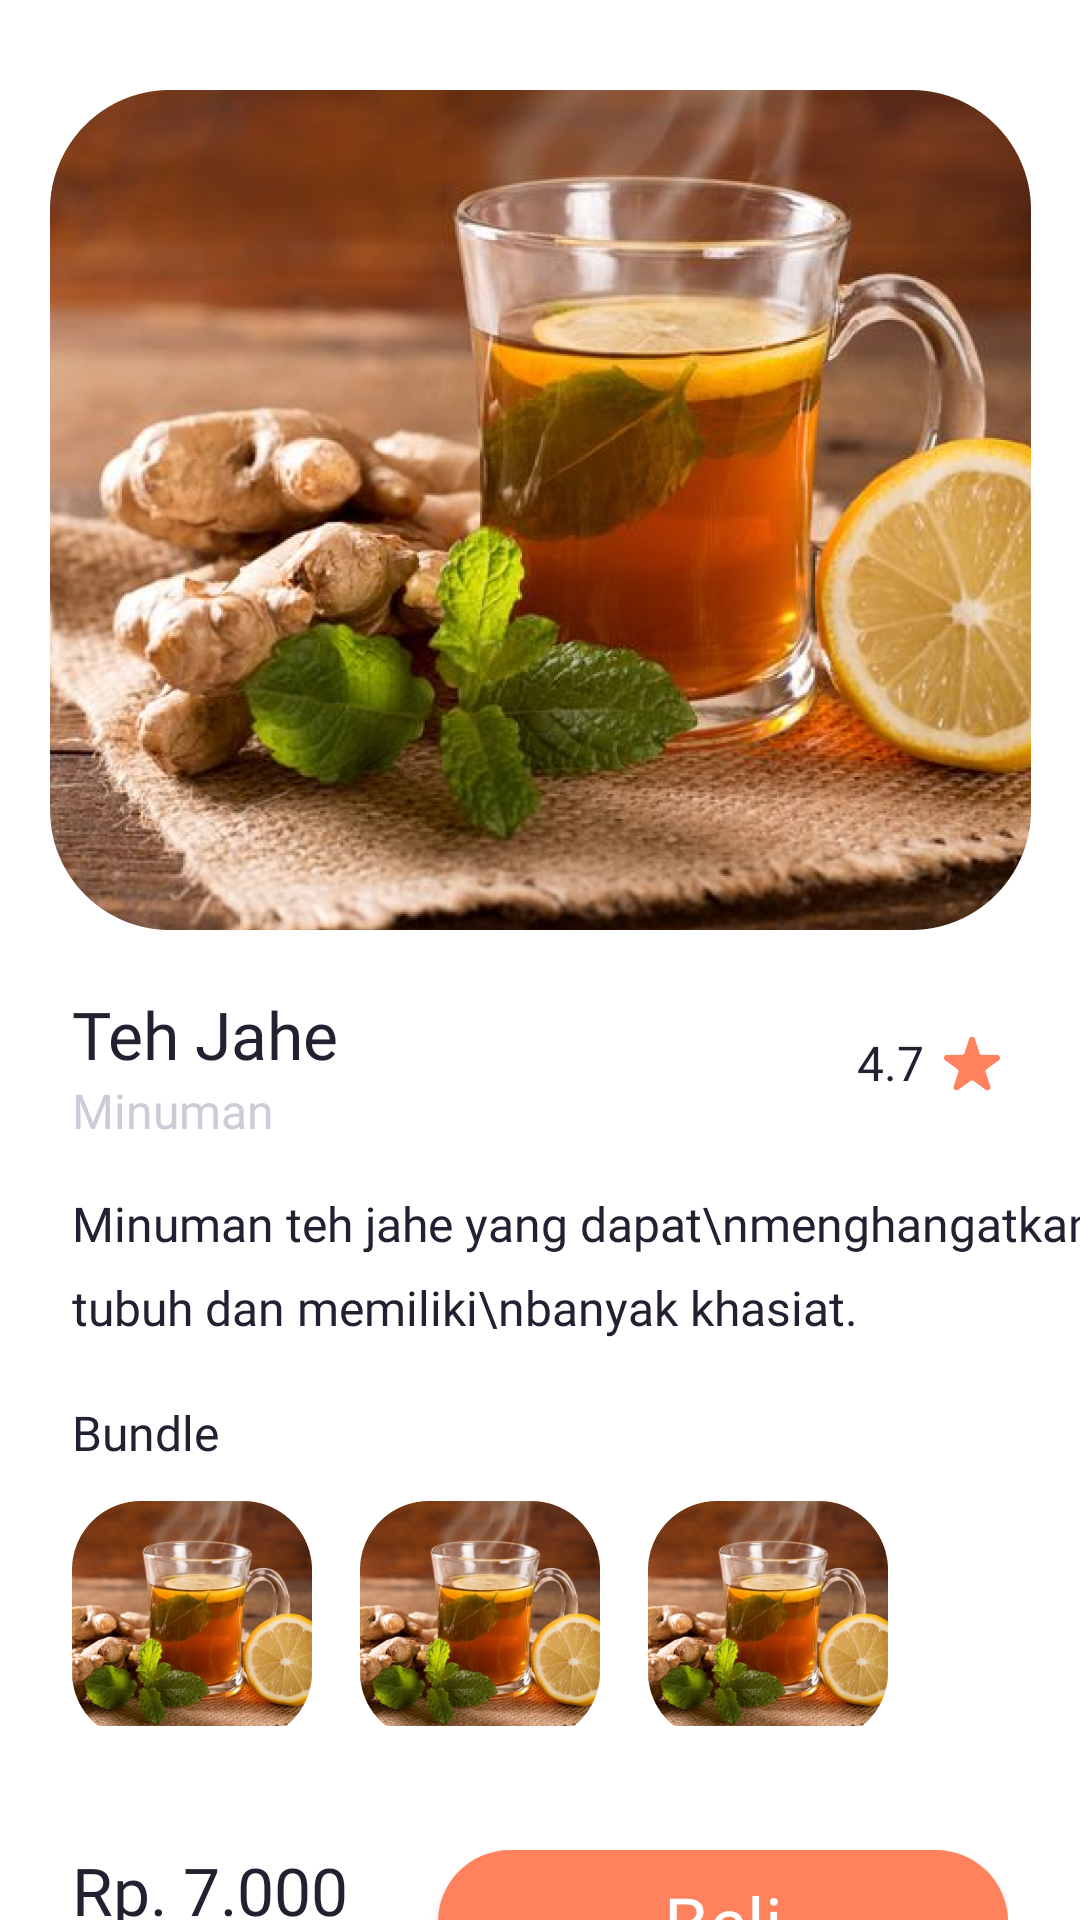

Screen size 1080w x 1920h. Icon name, then its box in pixels as (x1, y1, x2, y2):
star: (944, 1036, 1000, 1091)
